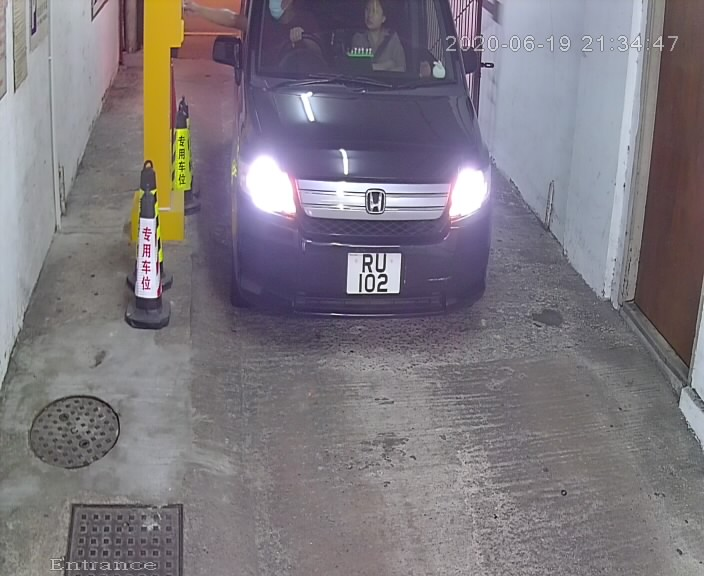privatecar: (237, 3, 520, 357)
